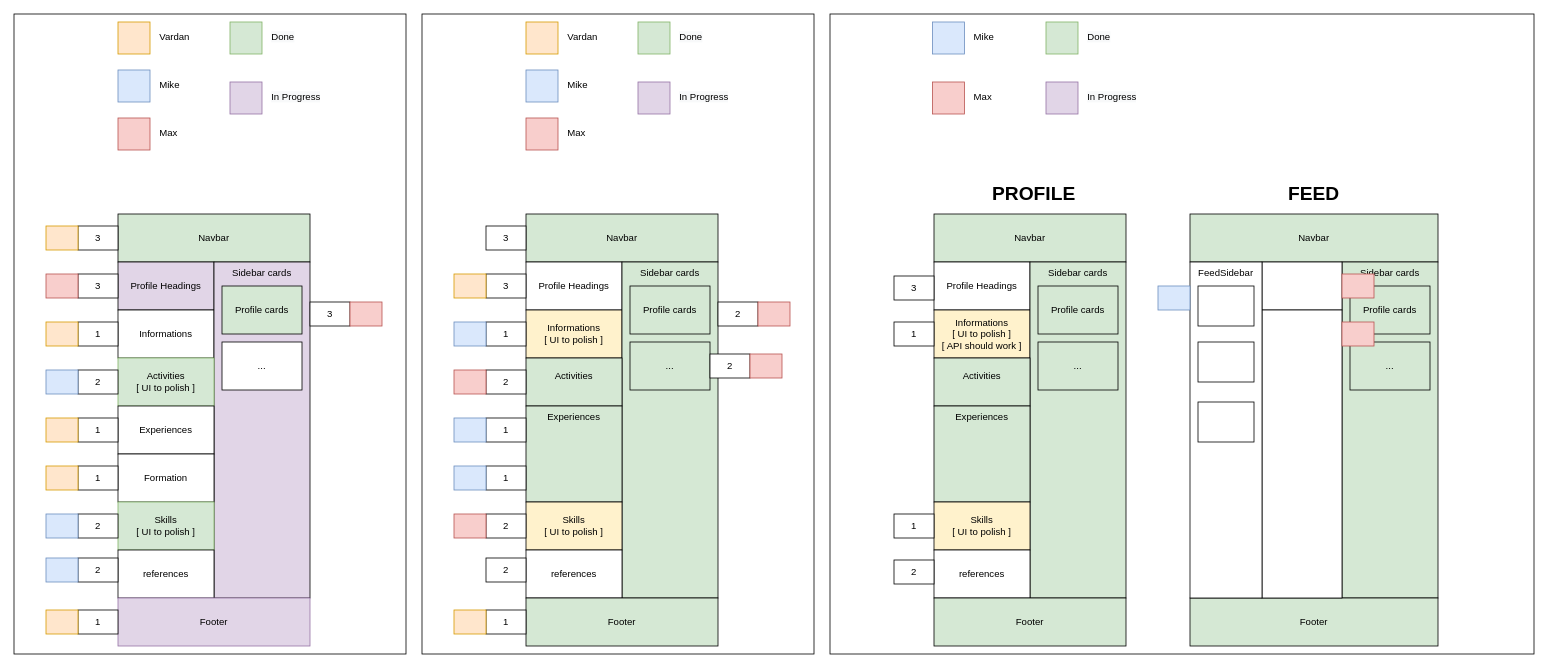
This 1548x668 diagram has some shape labels left out. Here are the shapes that lost their labels. From the top down, the centre of each, then its label:
At pixel 1301 285: "PostForm".
At pixel 1301 453: "FeedCards".
